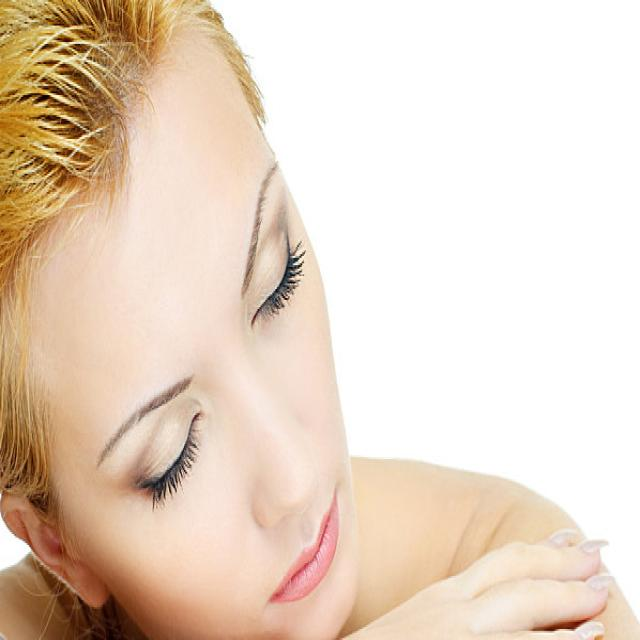Closed: (130, 402, 206, 508), (248, 220, 298, 327)
